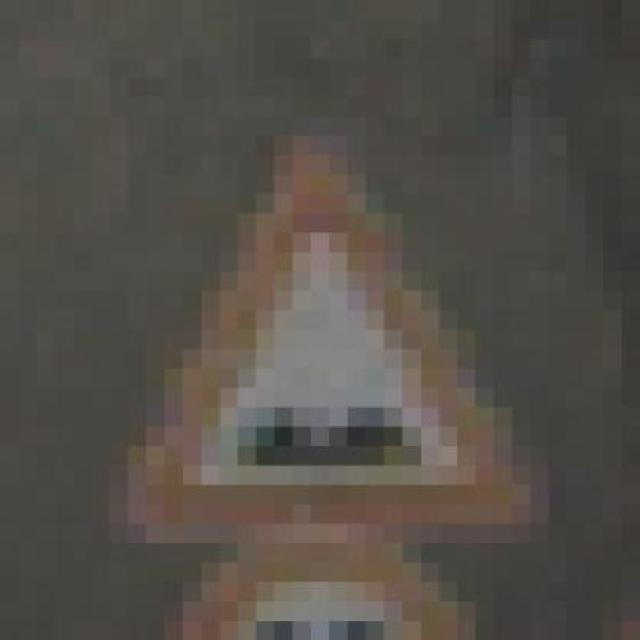Uneven Road: (110, 97, 548, 543)
